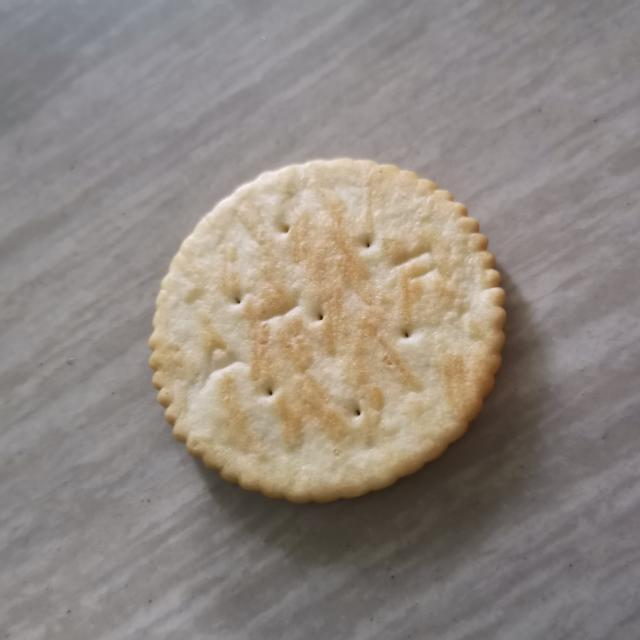Intact: (139, 140, 524, 514)
